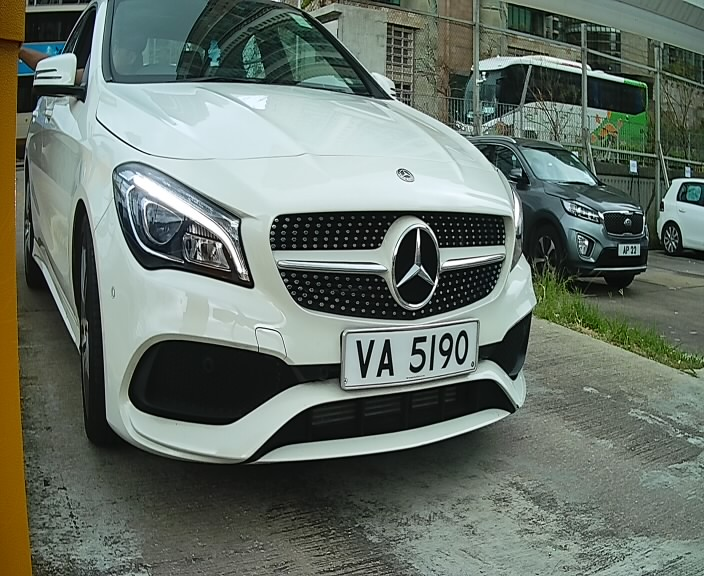Car: (15, 2, 545, 503)
License Plate: (333, 319, 492, 396)
